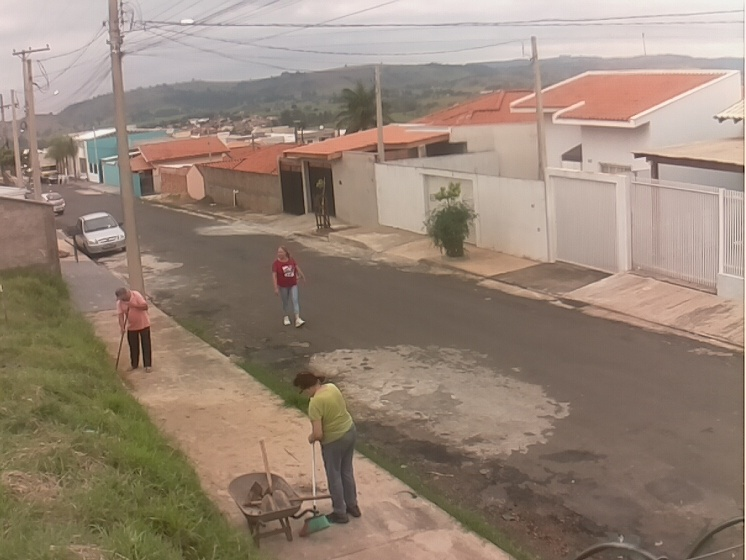person: (292, 371, 364, 527), (113, 286, 156, 374), (269, 244, 312, 330)
